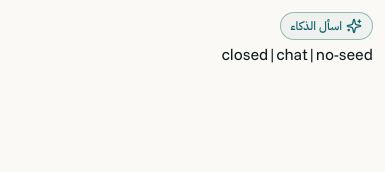
Test: opening the assistant › opens the global chat seeded with the sentence
Click the button "اسأل الذكاء" at (326, 26), box [280,12,373,40]
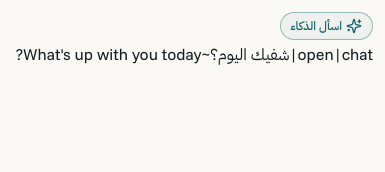
Check: the text with test id "probe" reads "open|chat|شفيك اليوم؟~What's up with you today?", box [298,44,334,64]
